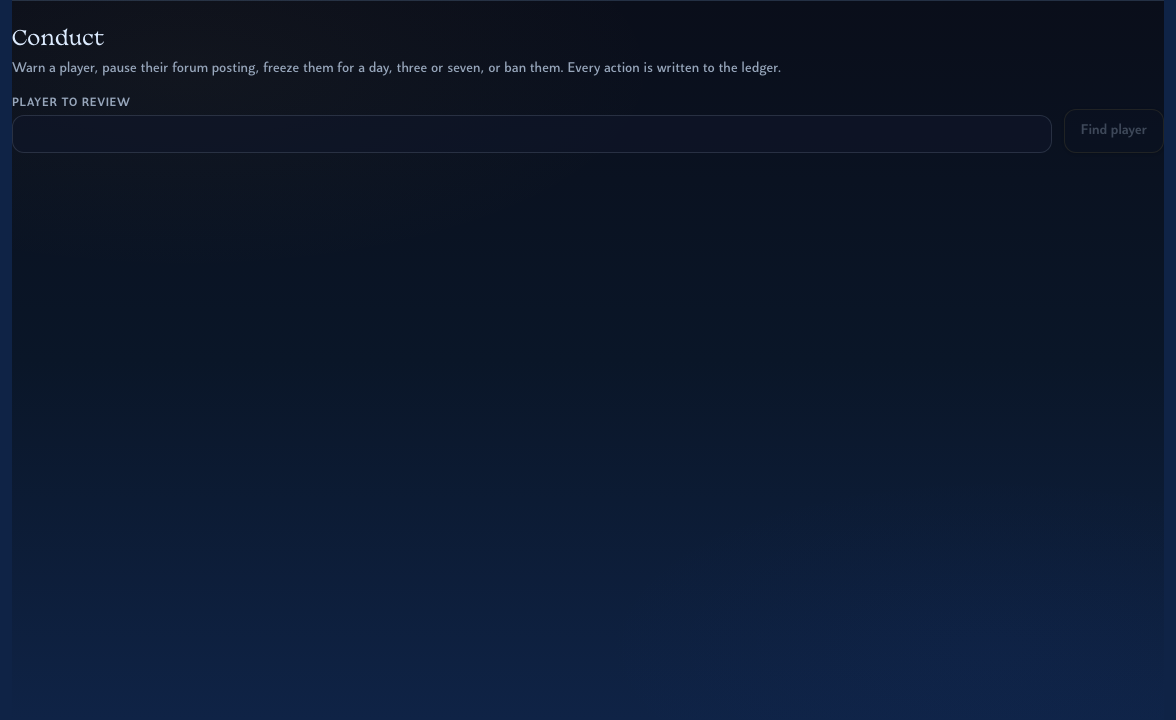
StaffLoginHistory › lists the sign-ins by numbered device and the accounts on the same address
The width and height of the screenshot is (1176, 720).
Type "Willow" into the field labelled "Player to review". click: (532, 134)
box: [12,115,1052,153]
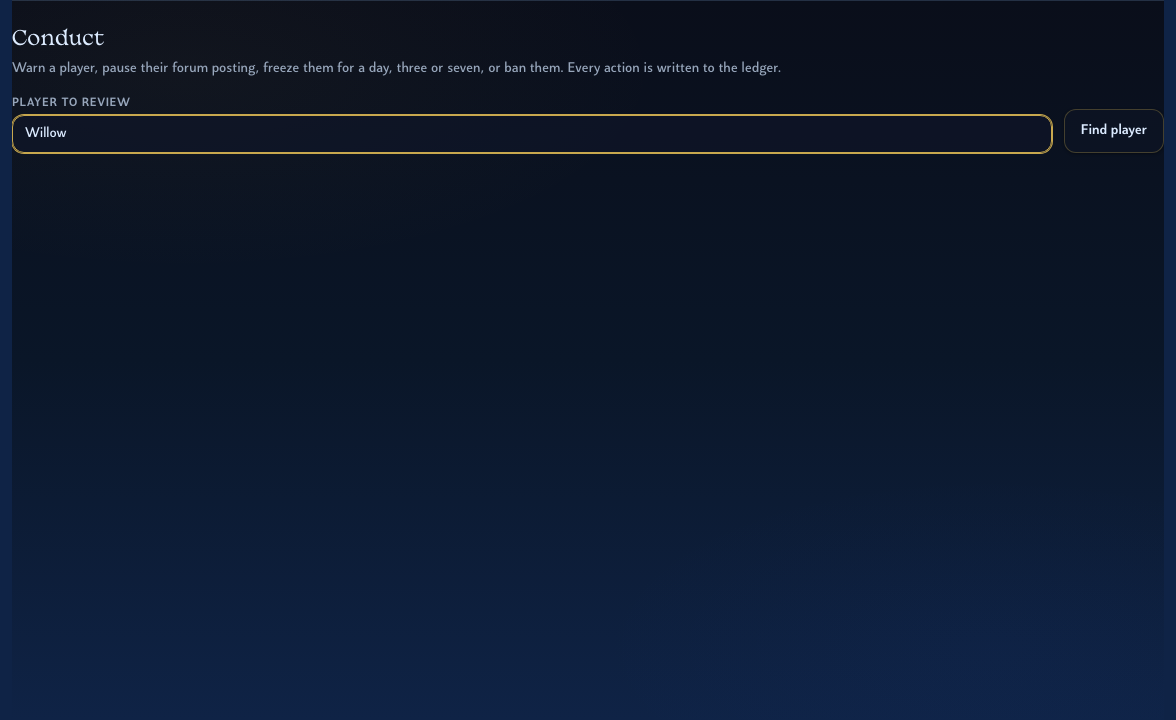
Click the button "Find player". click: (1114, 131)
box: [1064,109,1164,153]
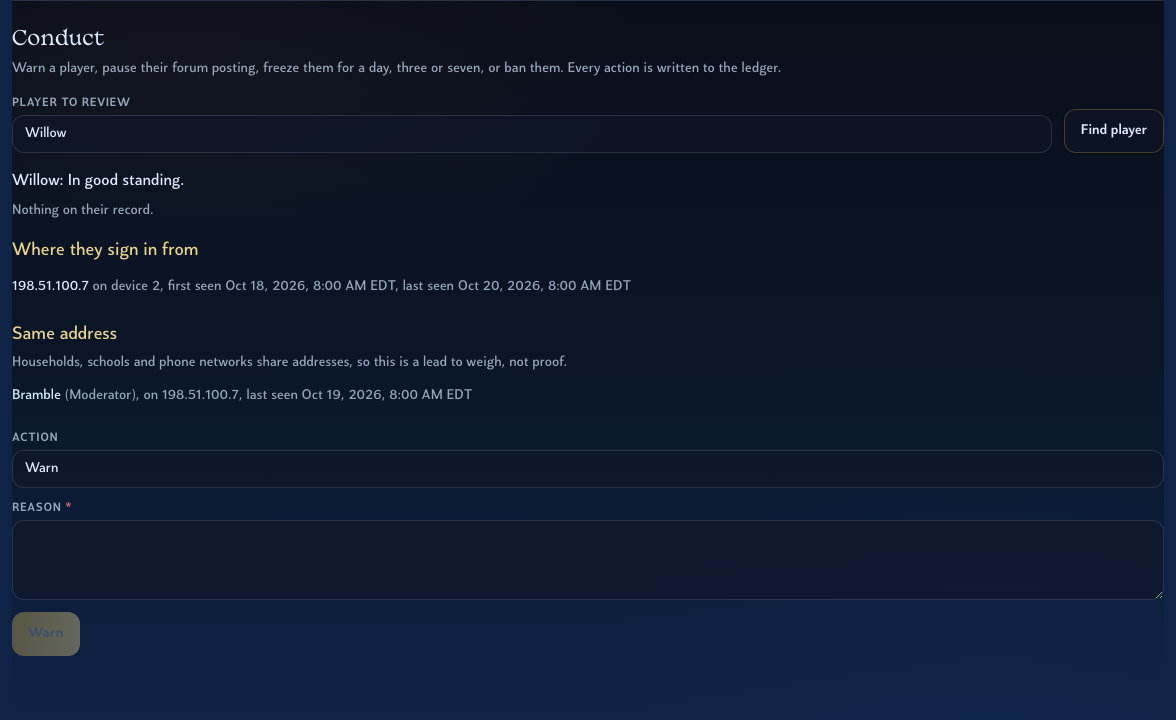
Now the heading "Where they sign in from" is shown, box [12,241,198,260]
Now the list item "on device 2, first seen" is shown, box [12,279,631,294]
Now the text "Bramble" is shown, box [12,388,61,403]
